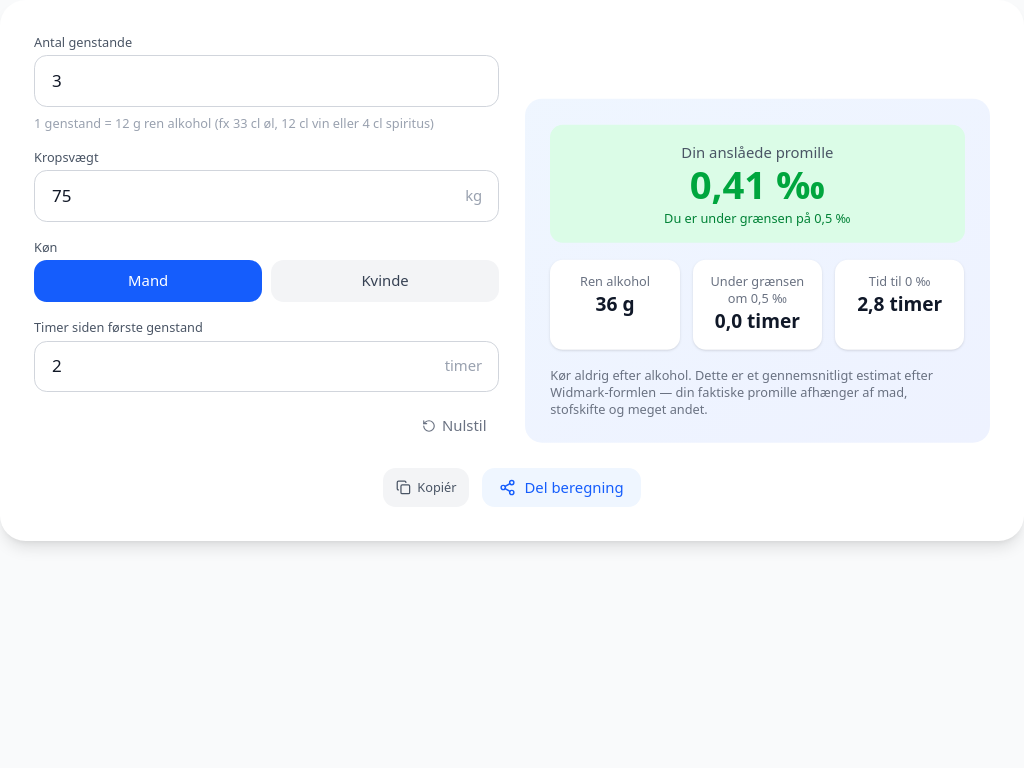
Test: PromilleBeregner › promille præcis på grænsen siger 'på grænsen', ikke 'over grænsen'
The image size is (1024, 768).
Replace the text in the number field labelled "Antal genstande" with "1" at (267, 81), box left=34, top=55, right=499, bottom=106
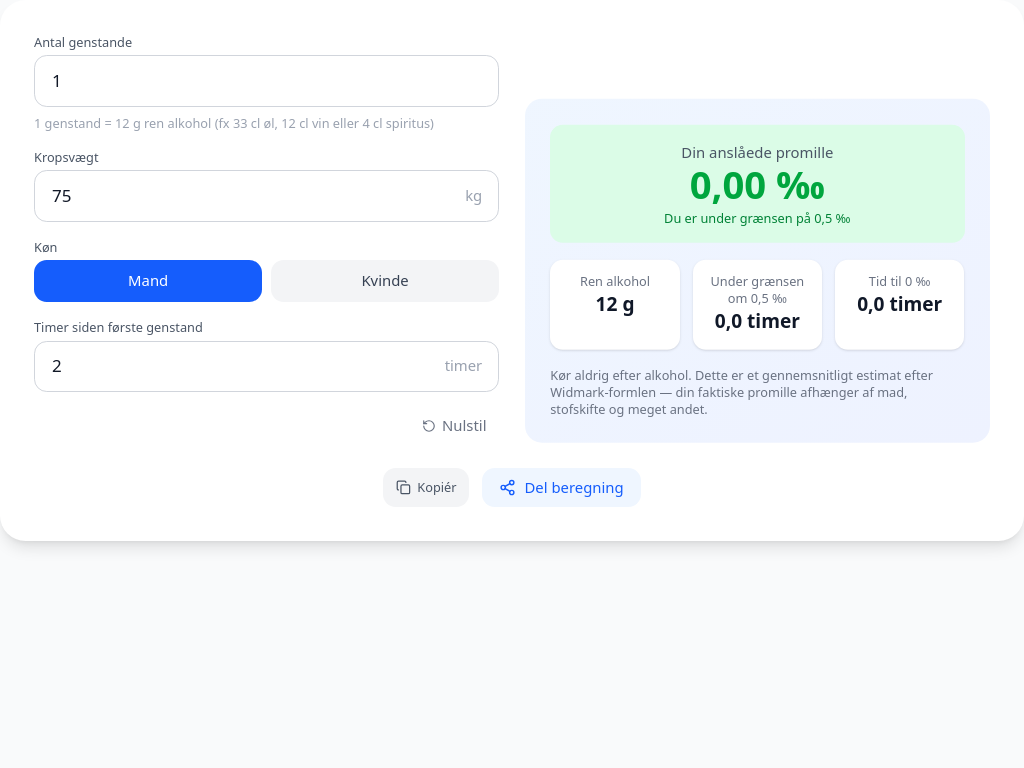
Replace the text in the number field labelled "Kropsvægt" with "44" at (267, 196), box left=34, top=170, right=499, bottom=222
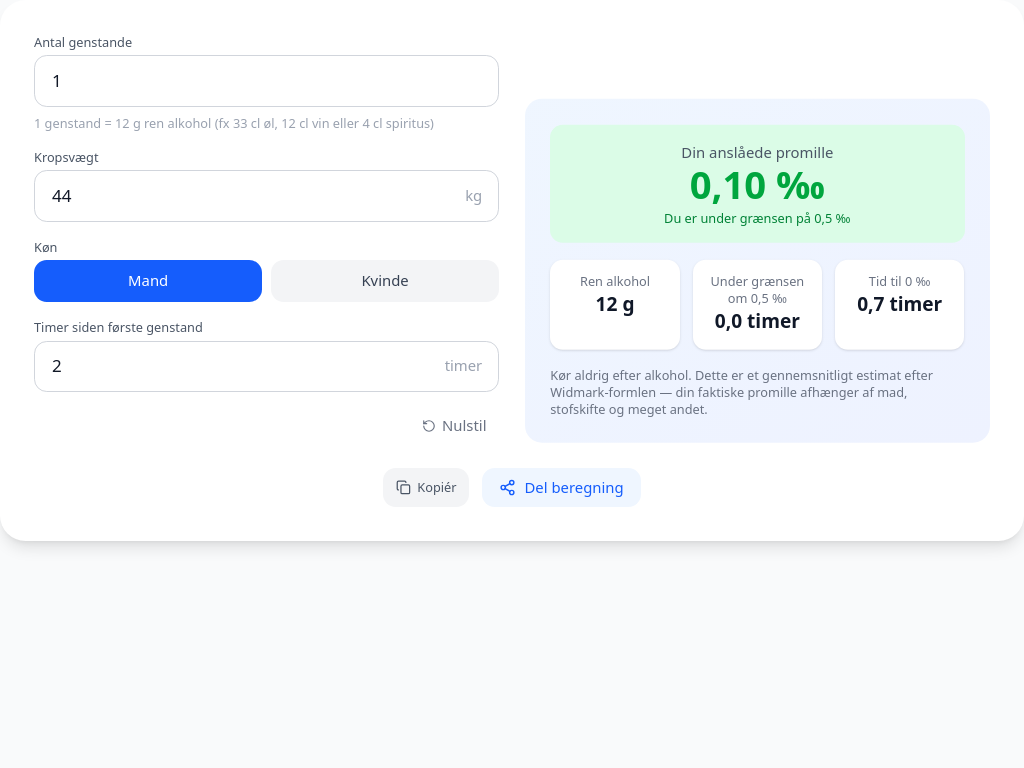
Replace the text in the number field labelled "Timer siden første genstand" with "0" at (267, 366), box left=34, top=340, right=499, bottom=392
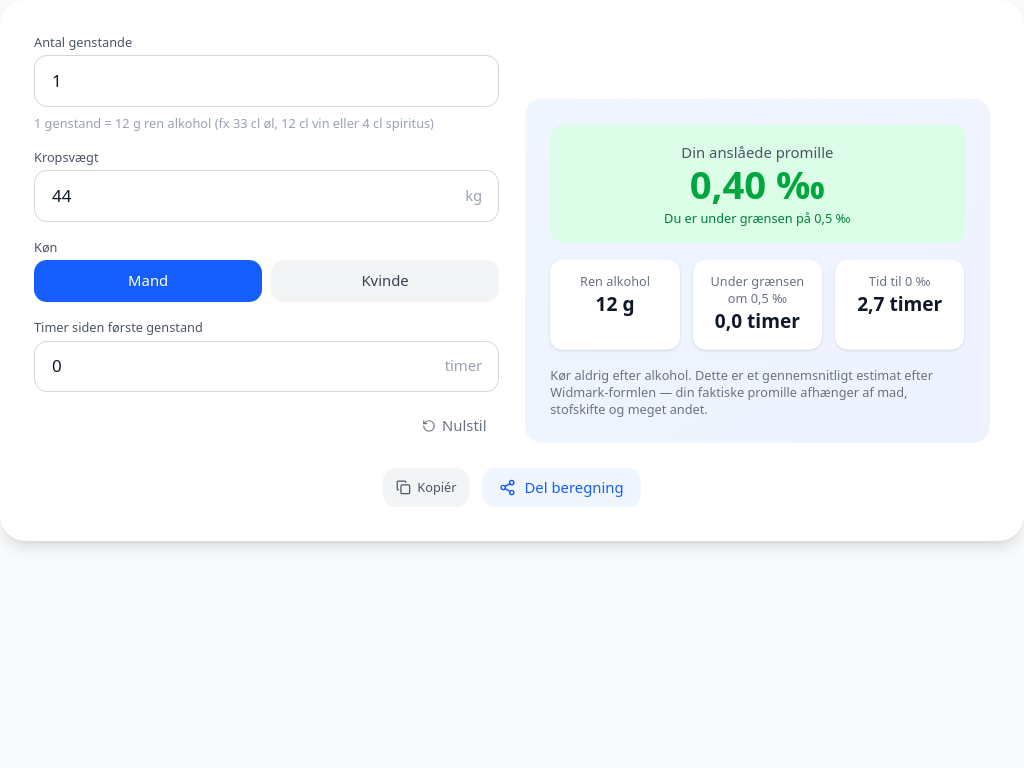
Click the button "Kvinde" at (385, 281), box left=271, top=260, right=499, bottom=302
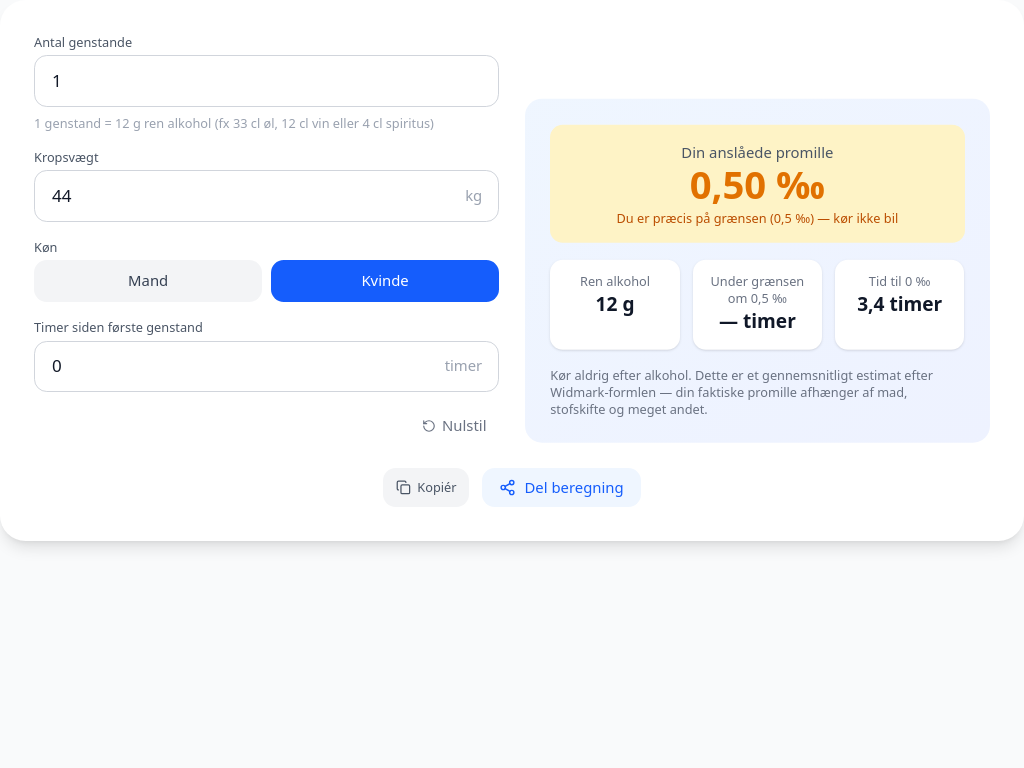
Now the text "0,50 ‰" is shown, box left=690, top=157, right=825, bottom=209
Now the text "Du er præcis på grænsen (0,5 ‰) — kør ikke bil" is shown, box left=616, top=208, right=898, bottom=226
Now the text "— timer" is shown, box left=719, top=308, right=796, bottom=334
